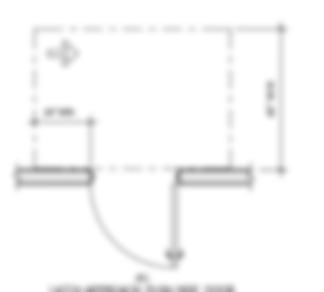door: (90, 169, 184, 271)
